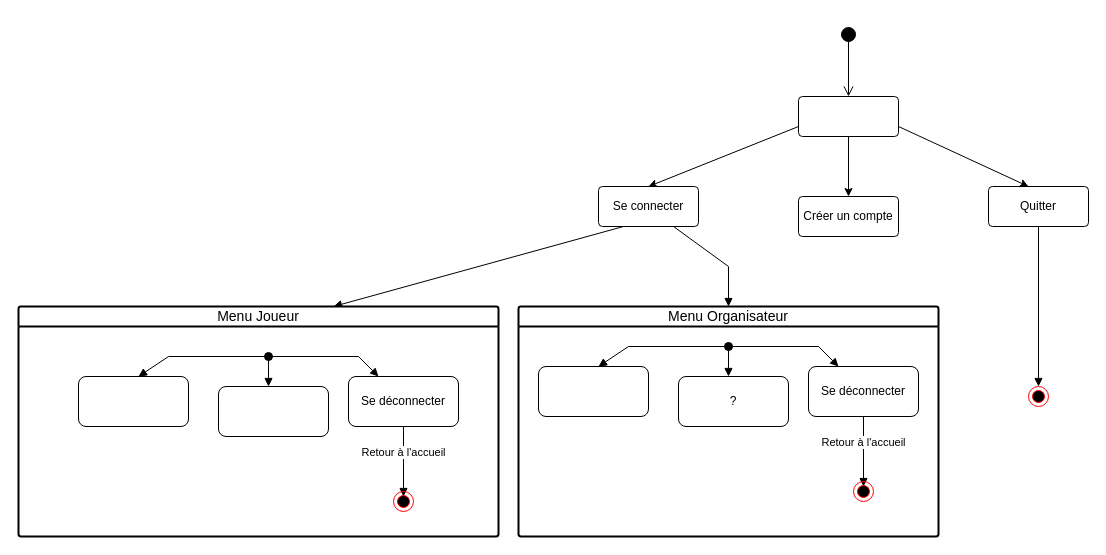
Image size: 1106x555. Some labels were removed from this diagram. Here are the shapes that lost their labels. From the top down, the centre of each, then its label:
At [848,116]: "Accueil".
At [133,401]: "Observer les sats des joueurs".
At [273,411]: "Résultats des matchs".
At [593,391]: "Création de tournois".
